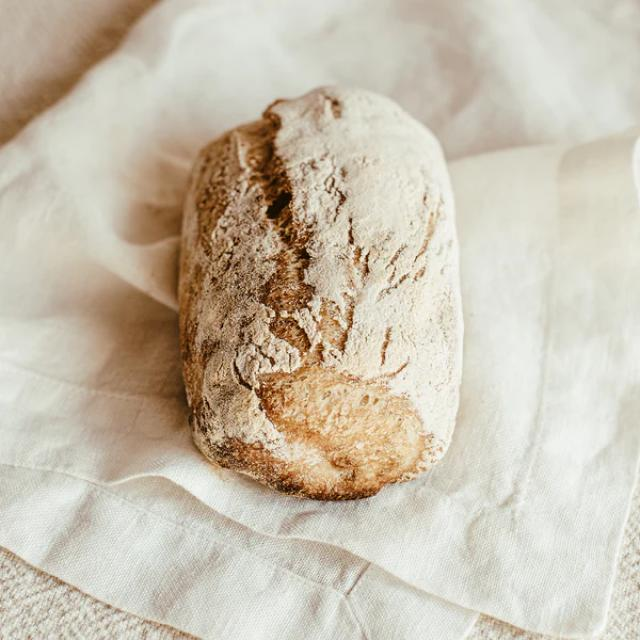Ciabatta: (180, 89, 461, 499)
